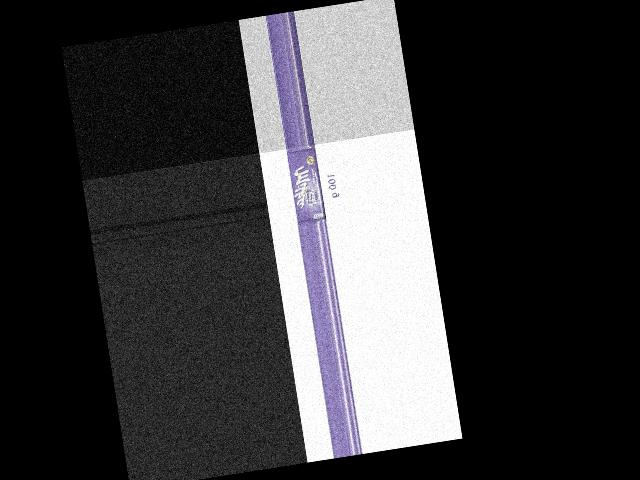chocolate: (285, 146, 332, 226)
